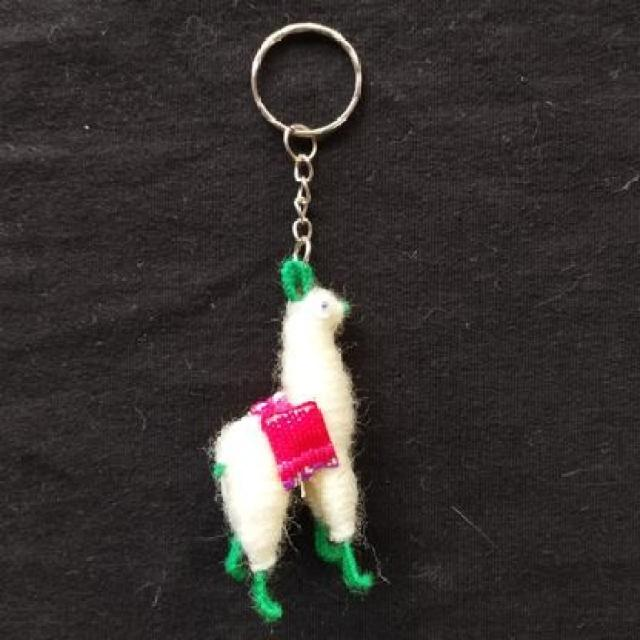Llavero: (207, 256, 378, 624)
